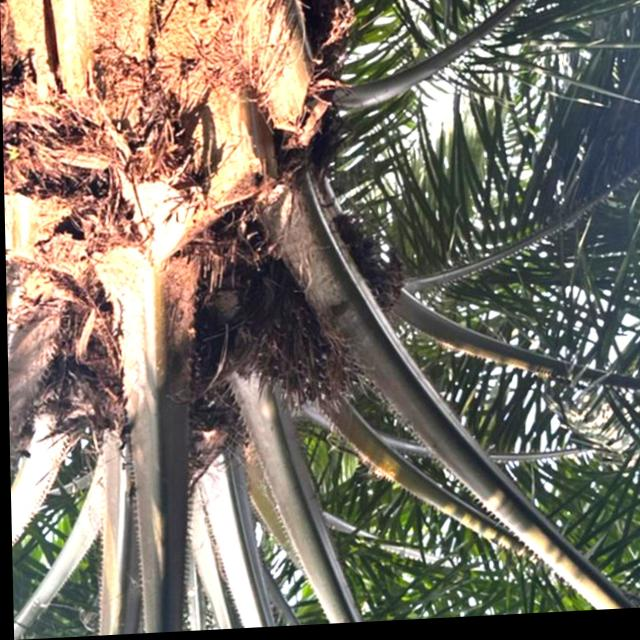ripe: (213, 237, 382, 432)
